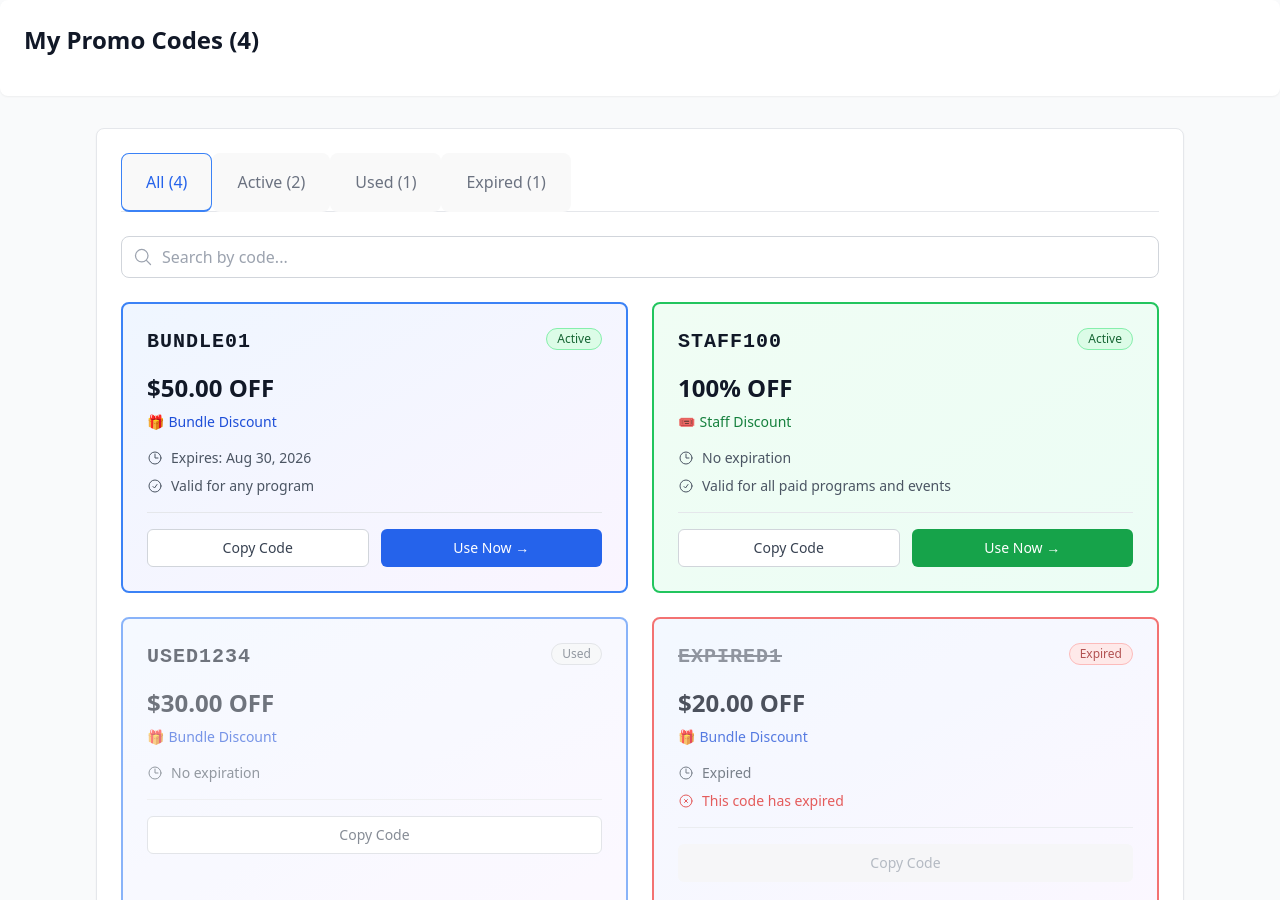
Test case: MyPromoCodes Page › Filtering › filters to show only used codes
This screenshot has width=1280, height=900.
Expected: the text "USED1234" is shown, top-left (147, 645), bottom-right (251, 668)
Click the button "Used (1)" at coordinates (386, 182), box top-left (330, 153), bottom-right (442, 212)
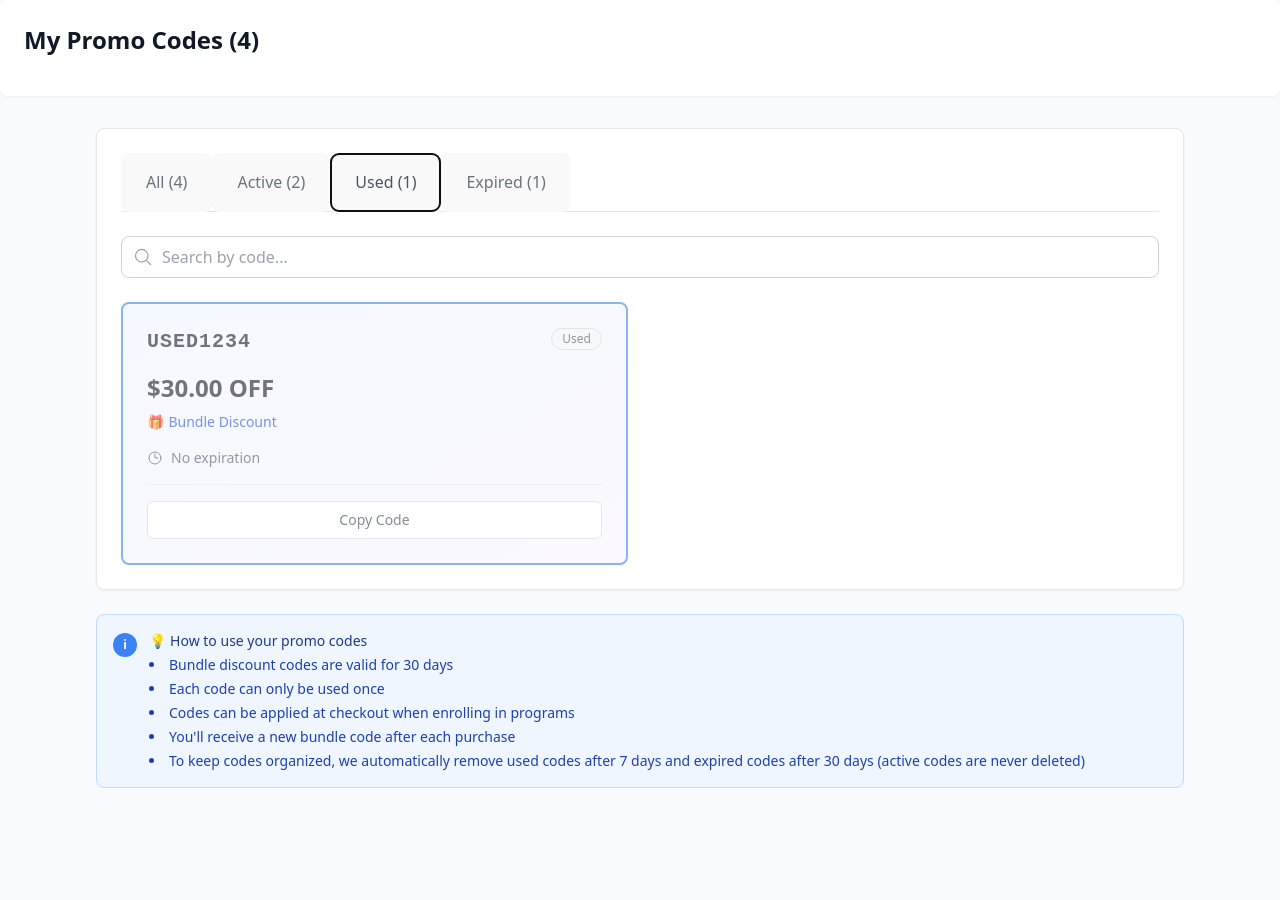
Expected: the text "BUNDLE01" is gone
Expected: the text "STAFF100" is gone
Expected: the text "EXPIRED1" is gone
